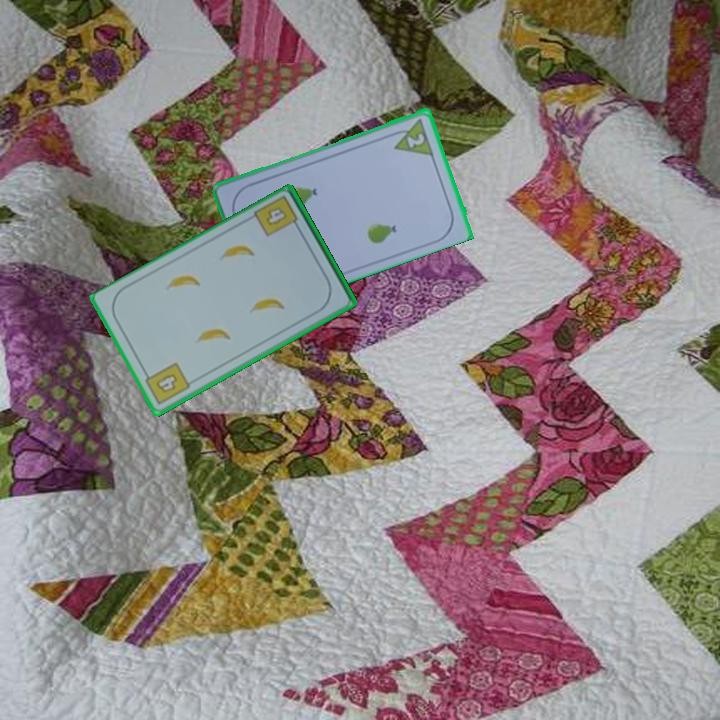2p: (387, 114, 436, 158)
4b: (140, 359, 193, 408), (251, 192, 303, 240)
